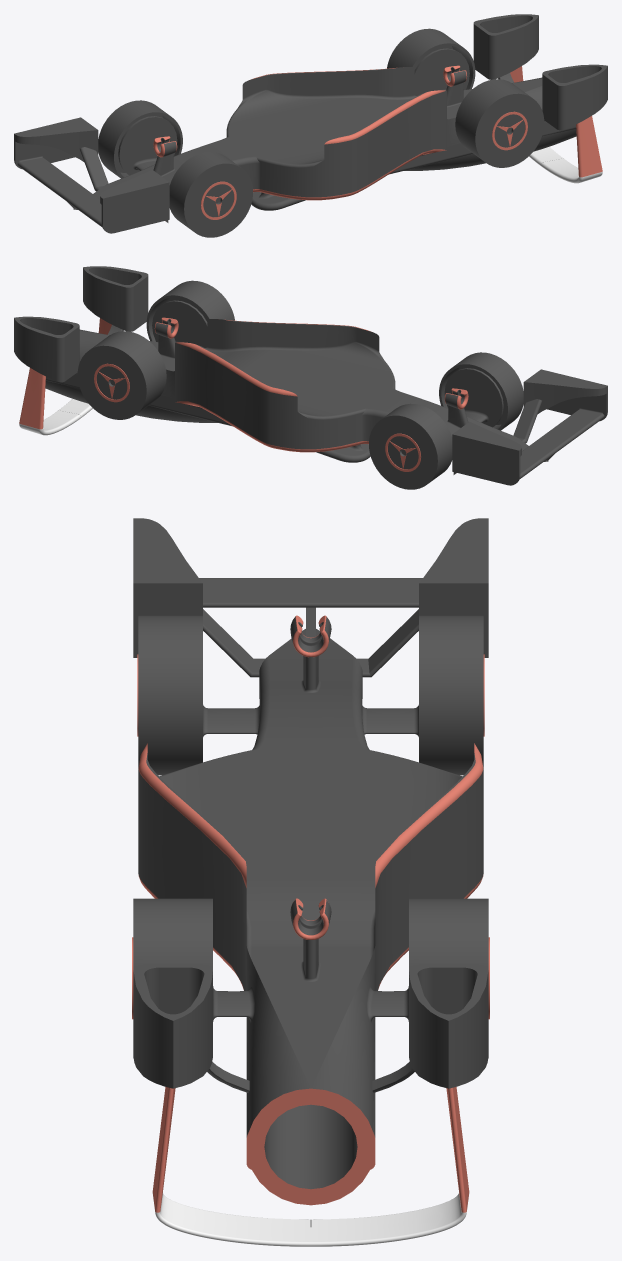
The model's file is bolid.glb.
The picture shows the model from 3 angles, top to bottom: view 1: azimuth 30°, elevation 25°; view 2: azimuth 150°, elevation 25°; view 3: azimuth 270°, elevation 25°; orthographic projection. The views are drawn at different scales.
Parts seen in each view (by area): view 1: CAR model; view 2: CAR model; view 3: CAR model.
Part boxes in pixels (left/top/right/bottom): CAR model: left=14, top=14, right=607, bottom=237; CAR model: left=14, top=266, right=607, bottom=489; CAR model: left=132, top=518, right=489, bottom=1246.
Size of the model in its own units: 23.1 by 5.3 by 6.95.
